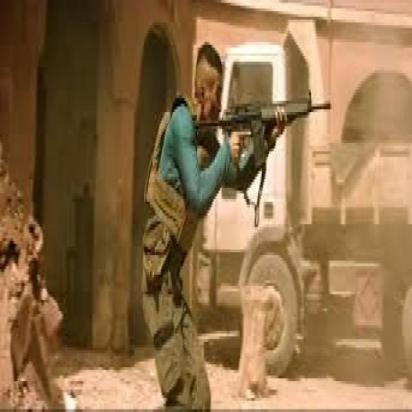Gun: (192, 87, 334, 180)
